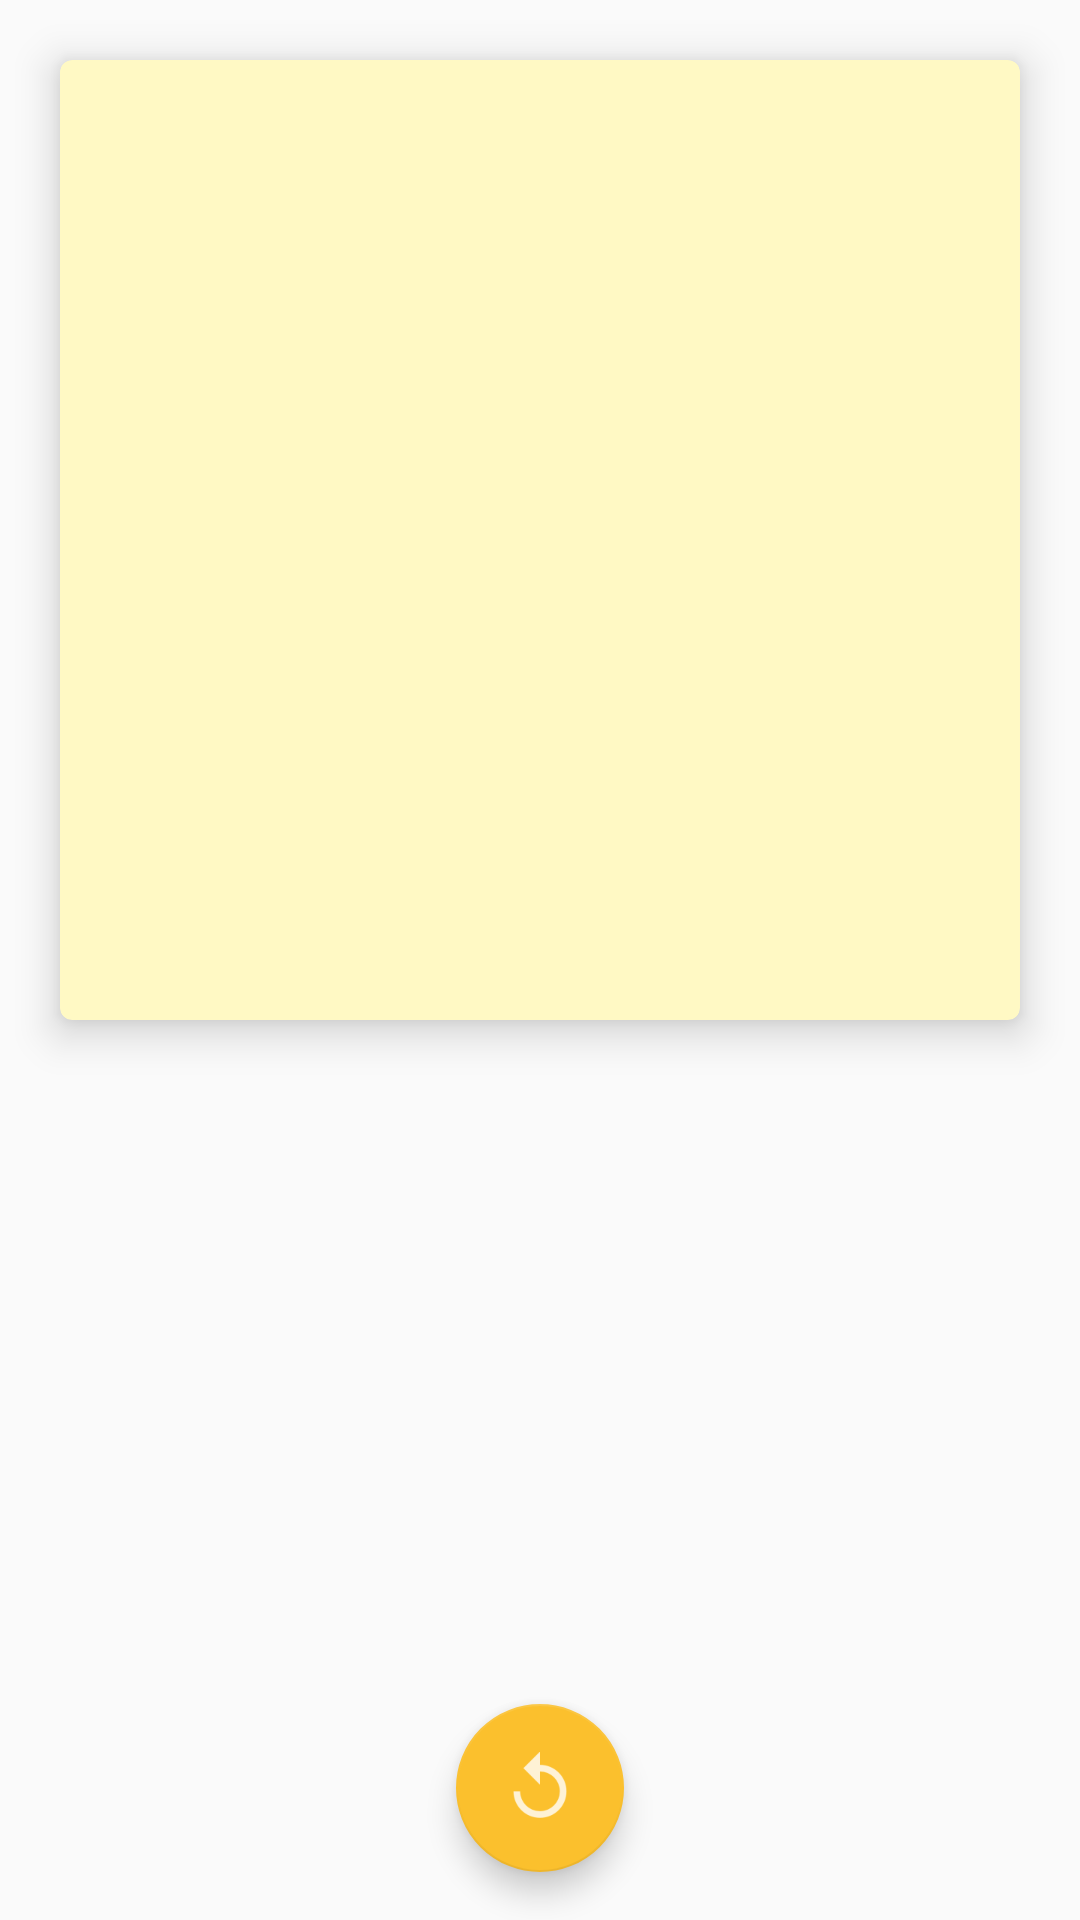

Icons on this 1080 x 1920 Android screen, each with its box as (x1, y1, x2, y2):
replay: (456, 1704, 624, 1872)
